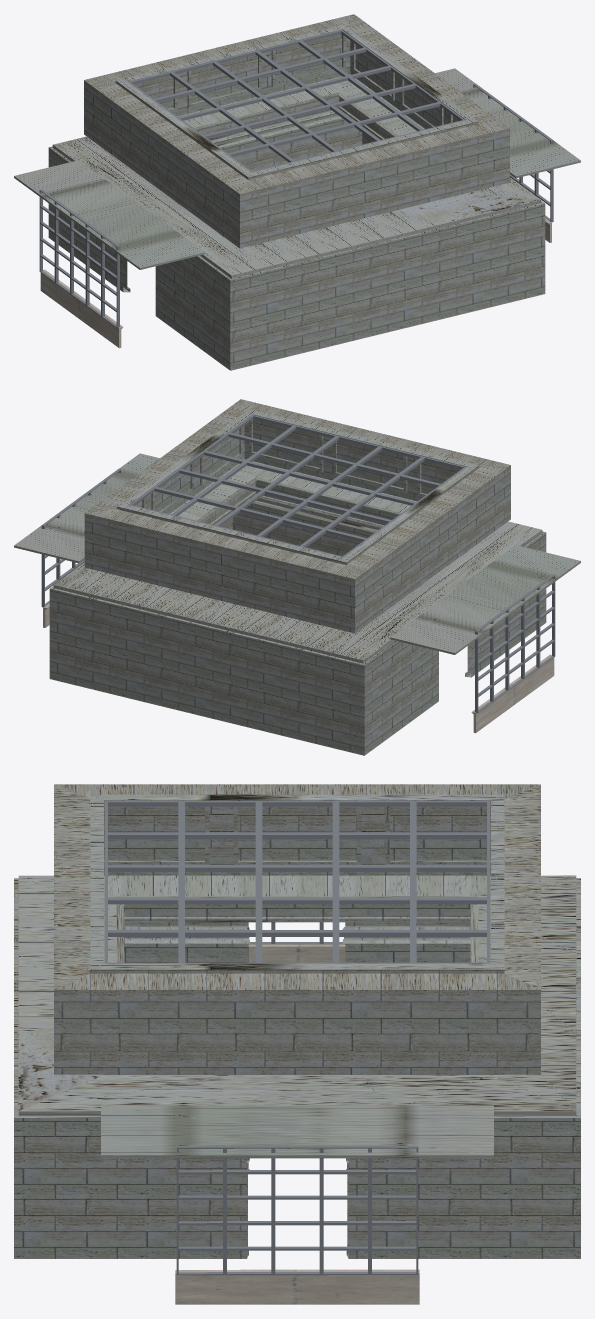
The model's file is Environment_ClassicalWalls_WhiteBrick.glb.
3 renders of one model, top to bottom at view 1: azimuth 30°, elevation 25°; view 2: azimuth 150°, elevation 25°; view 3: azimuth 270°, elevation 25°, orthographic. The views are drawn at different scales.
Parts seen in each view (by area): view 1: Cube.028, Cube.058, Cube.056, Cube.062, Cube.063, Cube.059, Cube.031, Cube.060; view 2: Cube.028, Cube.058, Cube.056, Cube.062, Cube.063, Cube.059, Cube.031, Cube.060; view 3: Cube.028, Cube.058, Cube.063, Cube.056, Cube.060, Cube.061, Cube.031.
Boxes of the visible parts, x1,y1,x2,y2 form: Cube.028: [52, 14, 541, 278]; Cube.058: [48, 109, 545, 370]; Cube.056: [128, 30, 465, 172]; Cube.062: [14, 160, 204, 269]; Cube.063: [435, 68, 580, 178]; Cube.059: [39, 189, 119, 328]; Cube.031: [40, 269, 123, 348]; Cube.060: [473, 83, 553, 222]; Cube.028: [53, 399, 542, 663]; Cube.058: [49, 494, 546, 755]; Cube.056: [129, 415, 466, 557]; Cube.062: [390, 545, 580, 654]; Cube.063: [14, 453, 159, 563]; Cube.059: [475, 574, 555, 713]; Cube.031: [471, 654, 554, 733]; Cube.060: [41, 468, 121, 607]; Cube.028: [18, 784, 576, 1115]; Cube.058: [14, 878, 580, 1258]; Cube.063: [101, 1105, 493, 1158]; Cube.056: [104, 801, 490, 963]; Cube.060: [176, 1145, 418, 1275]; Cube.061: [175, 1269, 419, 1304]; Cube.031: [248, 944, 345, 962].
Size of the model in its own units: 79.87 by 28.67 by 57.02.
4 materials, 3 textured.
